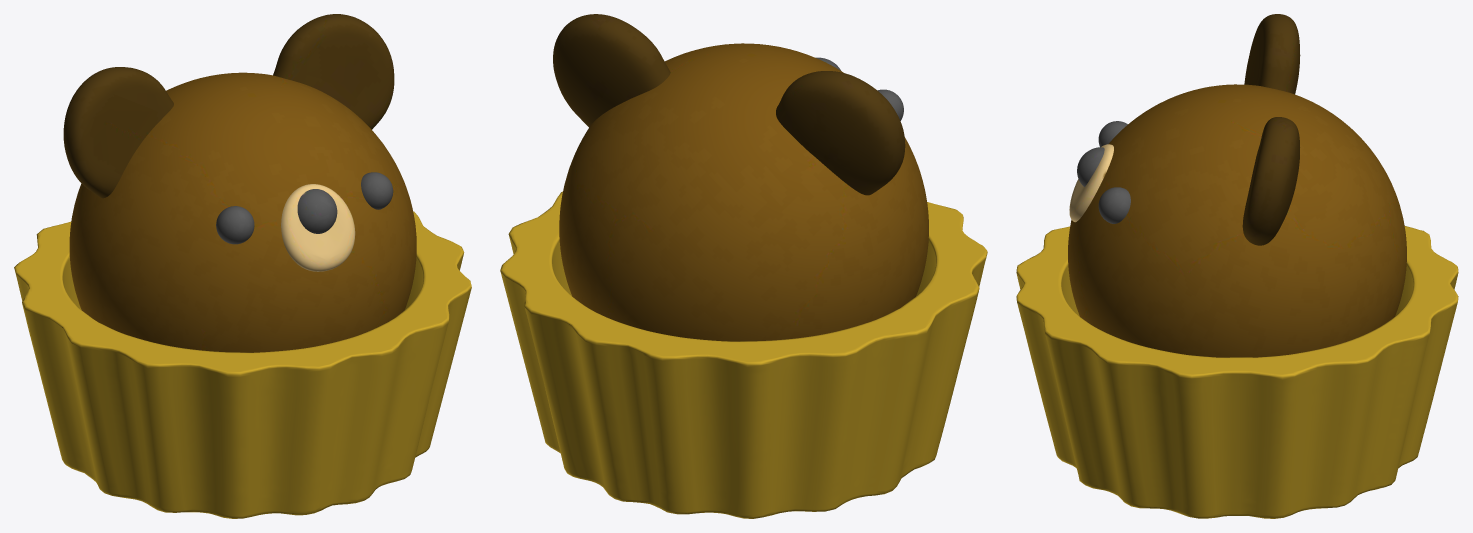
Rendered from mis.glb.
3 views of the same model, side by side, from view 1: azimuth 30°, elevation 25°; view 2: azimuth 150°, elevation 25°; view 3: azimuth 270°, elevation 25° (orthographic). The views are drawn at different scales.
Parts seen in each view (by area): view 1: obj0, obj001; view 2: obj0, obj001; view 3: obj0, obj001.
Part boxes in pixels (bbox=[...]): obj0: bbox=[63, 14, 416, 352]; obj001: bbox=[14, 211, 471, 518]; obj0: bbox=[553, 14, 928, 341]; obj001: bbox=[500, 191, 987, 518]; obj0: bbox=[1068, 14, 1406, 357]; obj001: bbox=[1016, 226, 1458, 518].
Size of the model in its own units: 0.4171 by 0.3896 by 0.419.
2 materials, 2 textured.
